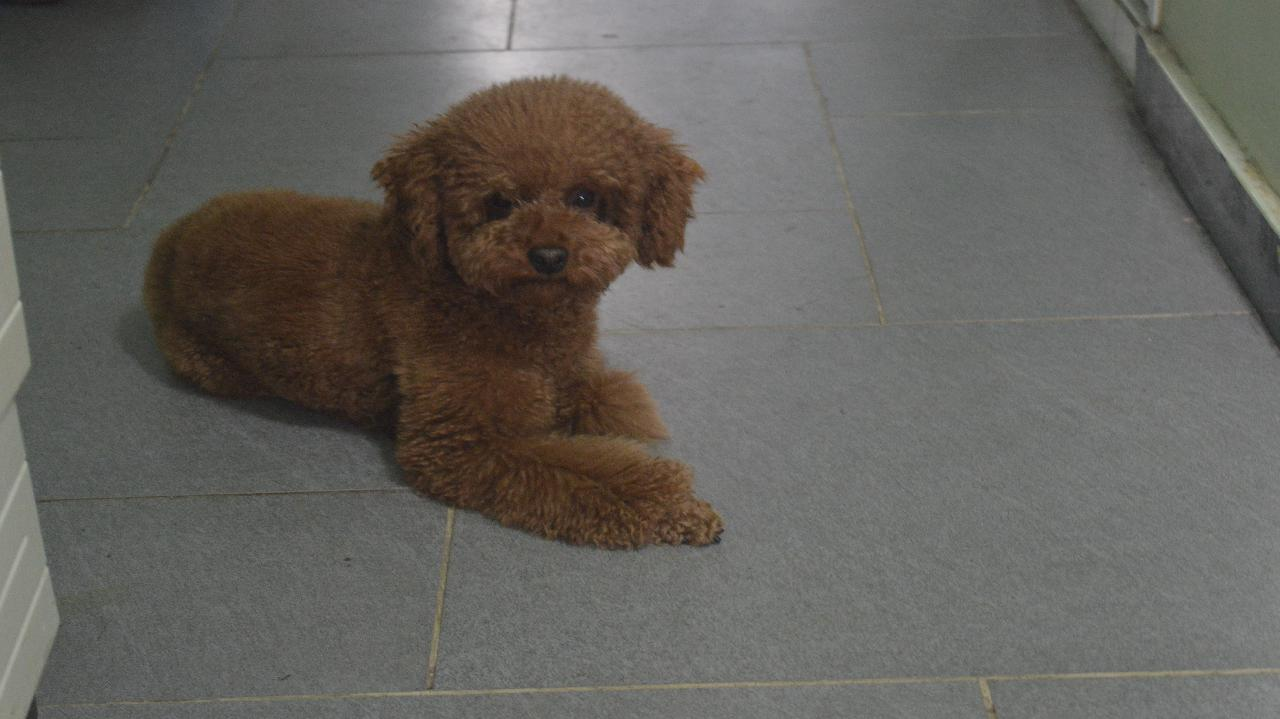zhuangzhuang: (152, 73, 727, 554)
